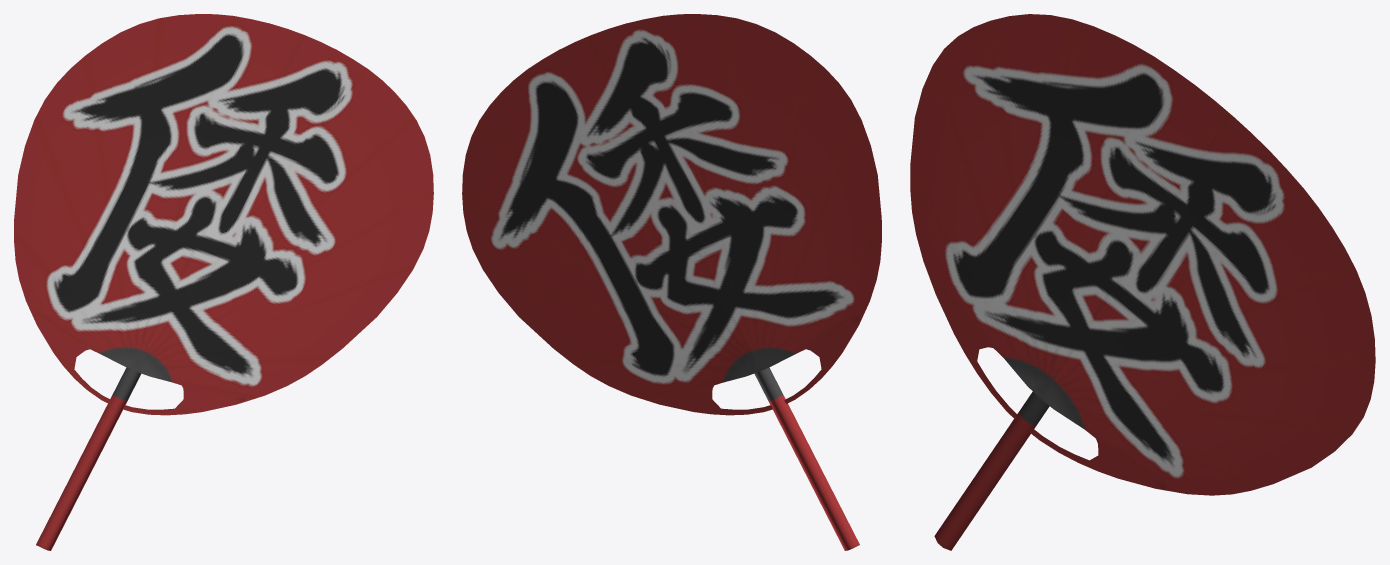
The model's file is Fan01.fbx.
The picture shows the model from 3 angles, left to right: view 1: azimuth 30°, elevation 25°; view 2: azimuth 150°, elevation 25°; view 3: azimuth 330°, elevation 25°; orthographic projection. The views are drawn at different scales.
Visible parts, largest first — view 1: Fan01; view 2: Fan01; view 3: Fan01.
Boxes of the visible parts, <box> form: Fan01: <box>14,14,433,550</box>; Fan01: <box>462,14,881,550</box>; Fan01: <box>910,14,1375,550</box>.
Bounding box in the file's own units: 28.44 × 32.83 × 0.8585.
